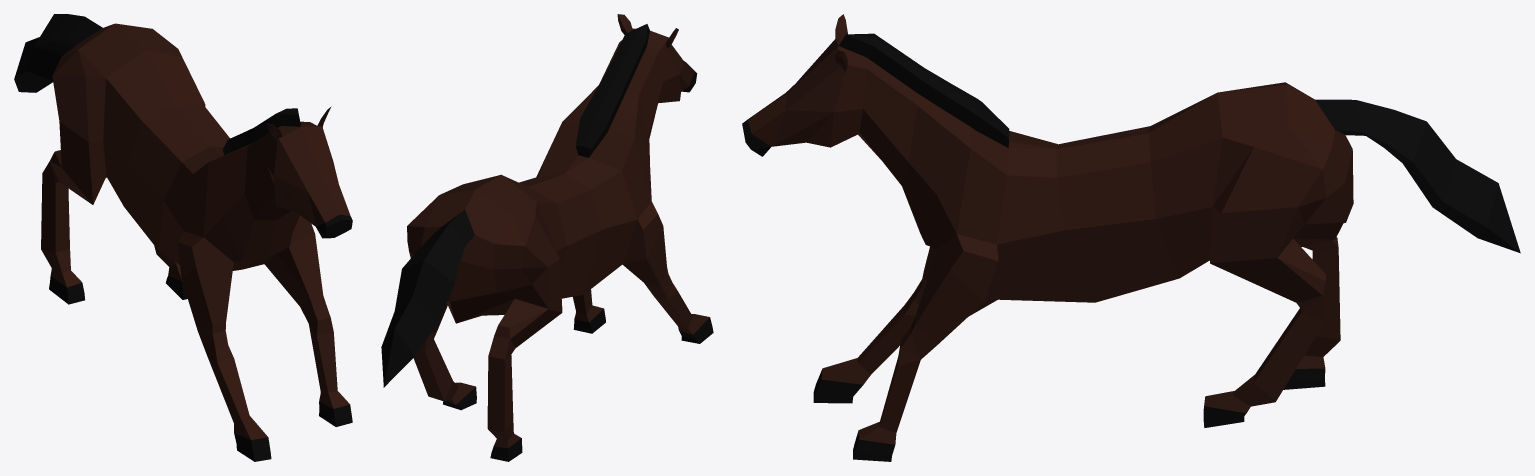
File: Horse_000025.obj
3 renders of one model, left to right at view 1: azimuth 30°, elevation 25°; view 2: azimuth 150°, elevation 25°; view 3: azimuth 270°, elevation 25°, orthographic. The views are drawn at different scales.
Parts seen in each view (by area): view 1: Horse_Cylinder; view 2: Horse_Cylinder; view 3: Horse_Cylinder.
Part boxes in pixels (left/top/right/bottom): Horse_Cylinder: left=14, top=14, right=352, bottom=461; Horse_Cylinder: left=381, top=14, right=713, bottom=461; Horse_Cylinder: left=742, top=14, right=1520, bottom=461.
Size of the model in its own units: 2.55 by 5.94 by 10.62.
